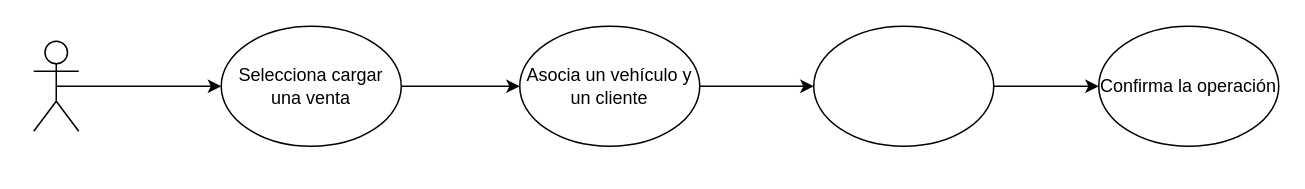
This 1305x189 diagram has some shape labels left out. Each missing label, with the centre of its shape:
Completa detalles de la operación: point 903,85
Usuario: point 55,85
